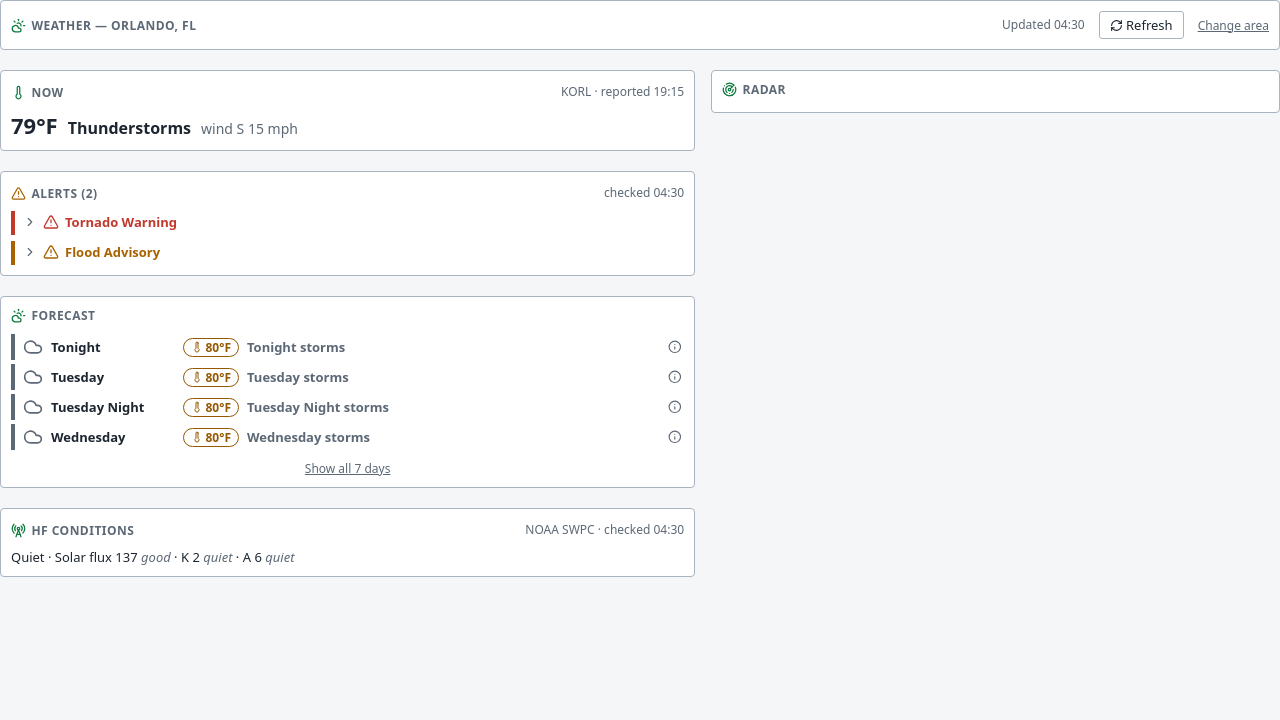
Test: WeatherTab (NWSA-013) › opens a period's full forecast with its ⓘ button
The image size is (1280, 720).
Expected: the text "Tonight: storms likely, mainly after 2pm." is not shown
Click the button named "Show the full forecast for Tonight" at coordinates (674, 347), box [664,337,684,357]
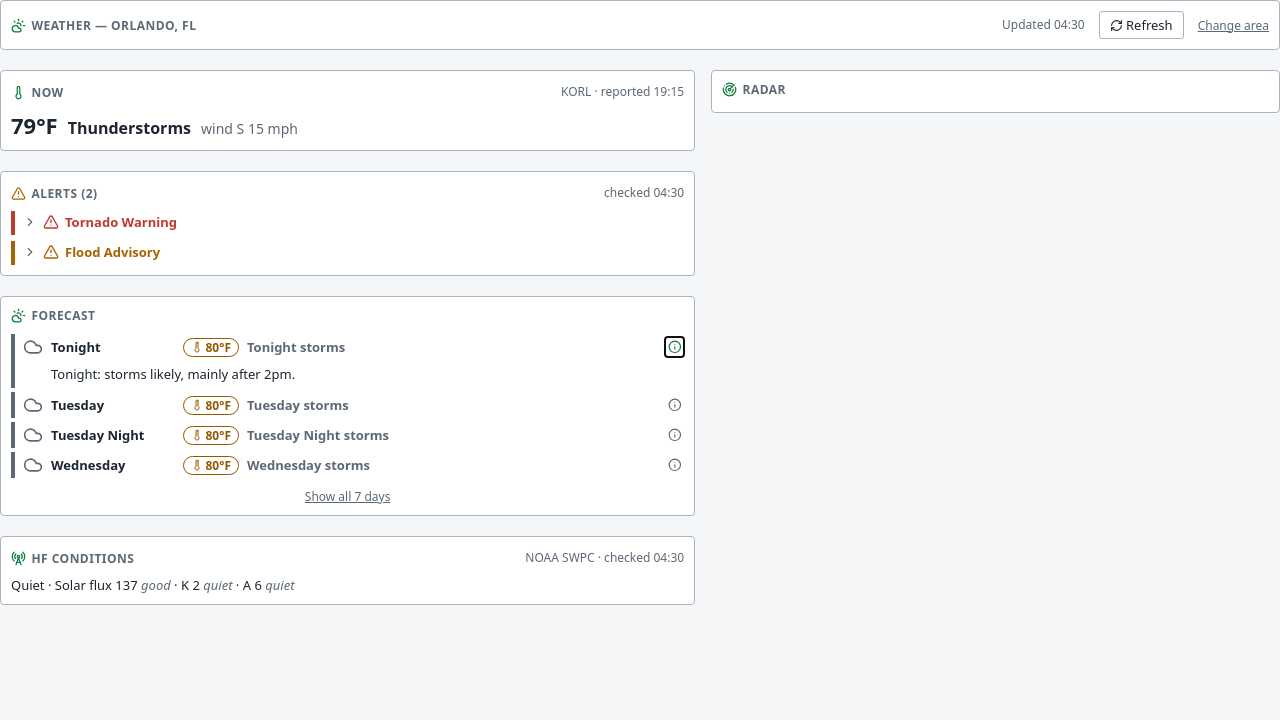
Expected: the text "Tonight: storms likely, mainly after 2pm." is shown, [51,365,295,383]
Click the button named "Hide the full forecast for Tonight" at coordinates (674, 347), box [664,337,684,357]
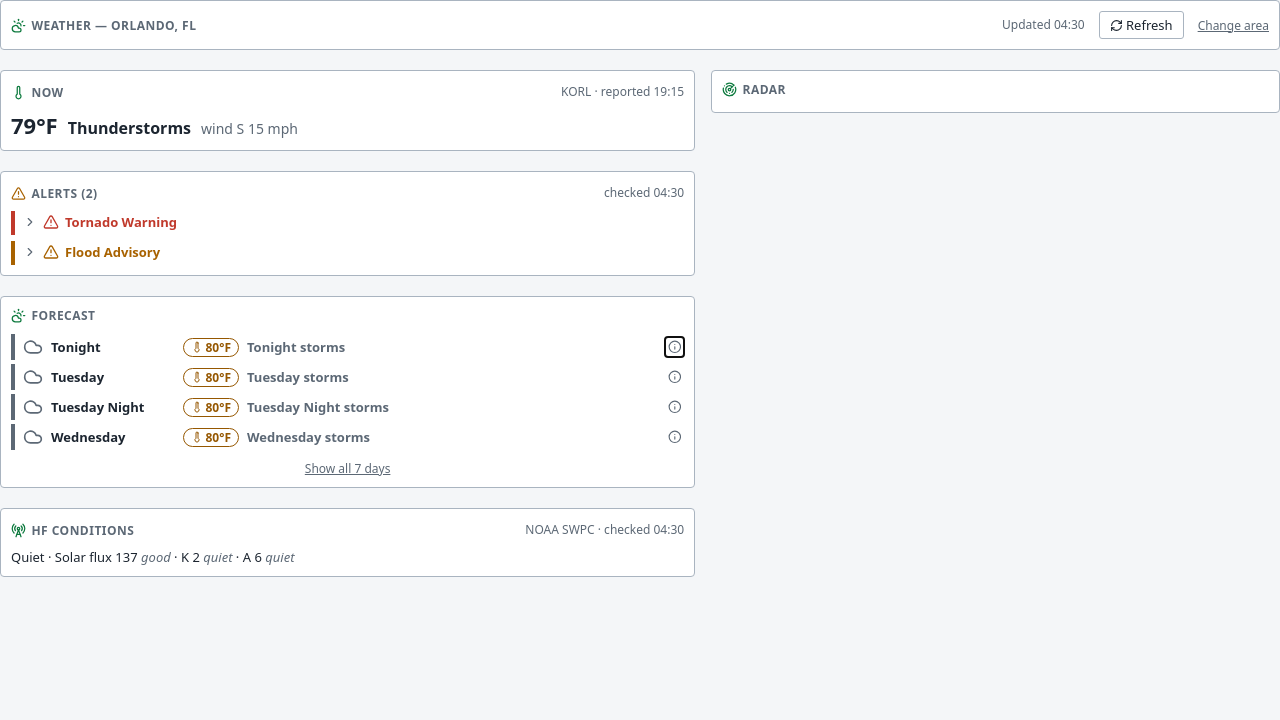
Expected: the text "Tonight: storms likely, mainly after 2pm." is gone
